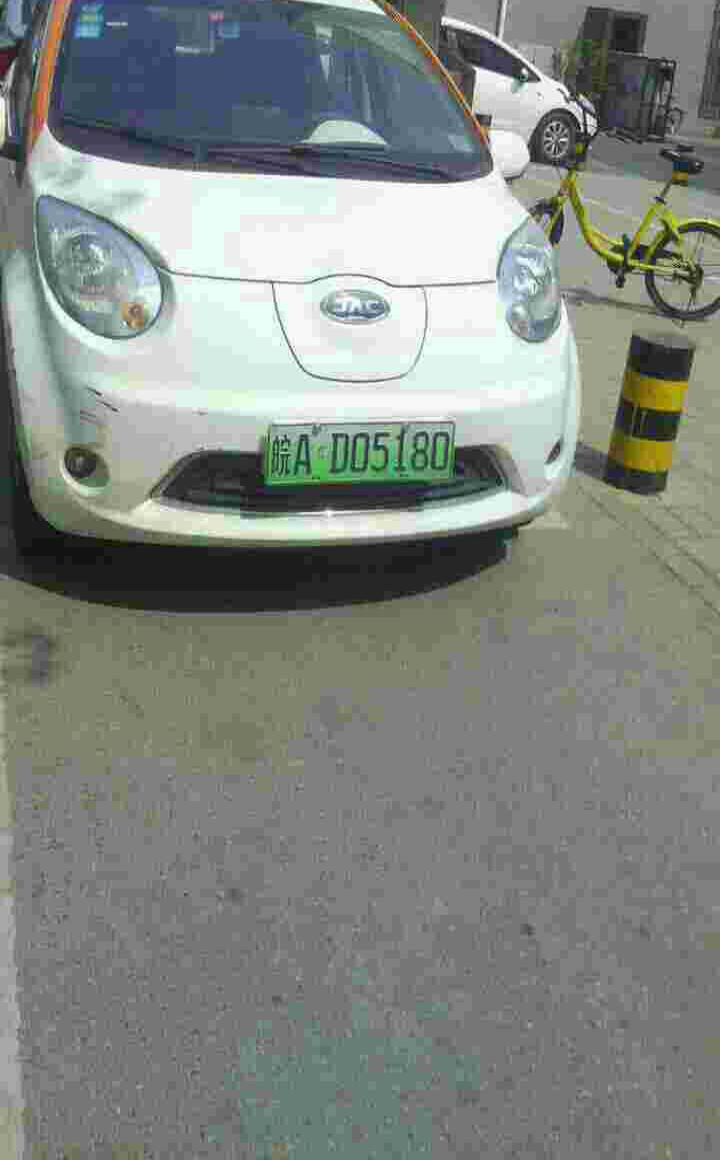car_green: (268, 422, 460, 486)
